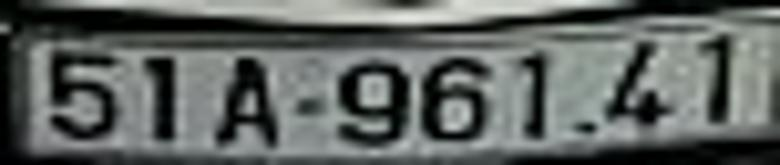-: (296, 90, 337, 120)
.: (573, 116, 600, 145)
1: (144, 51, 185, 143), (694, 36, 734, 122), (518, 49, 550, 141)
4: (604, 41, 672, 129)
5: (44, 51, 118, 142)
6: (421, 55, 490, 143)
9: (337, 52, 408, 149)
A: (208, 54, 285, 153)
